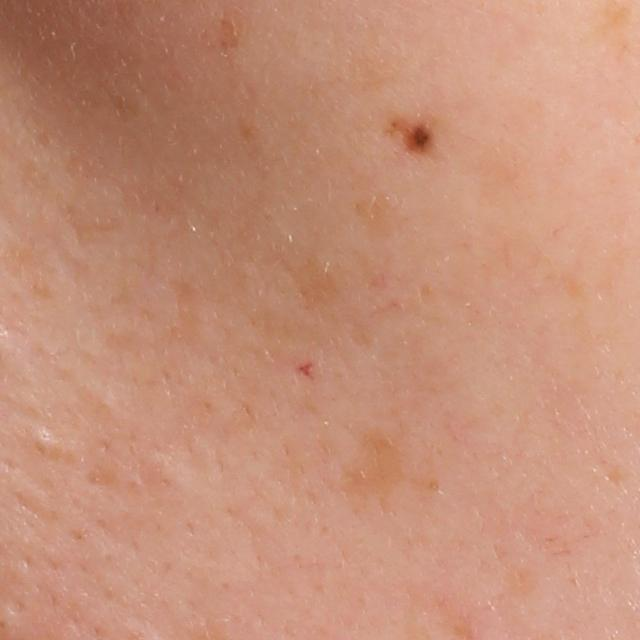melasma: (344, 430, 405, 504), (277, 253, 344, 306)
nevus: (396, 111, 434, 155)
